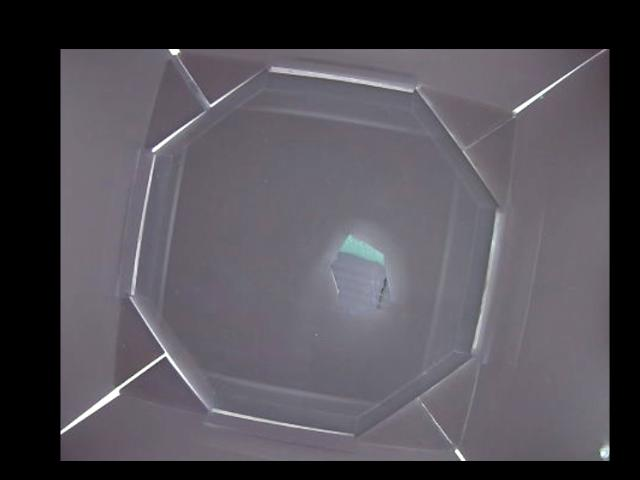China: (329, 231, 394, 309)
